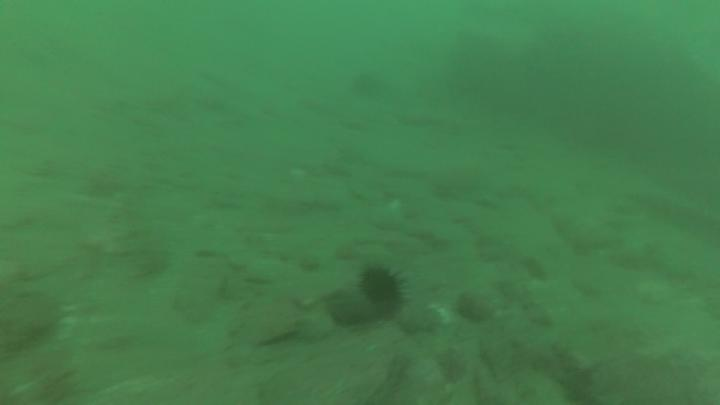echinus: (356, 262, 409, 319)
